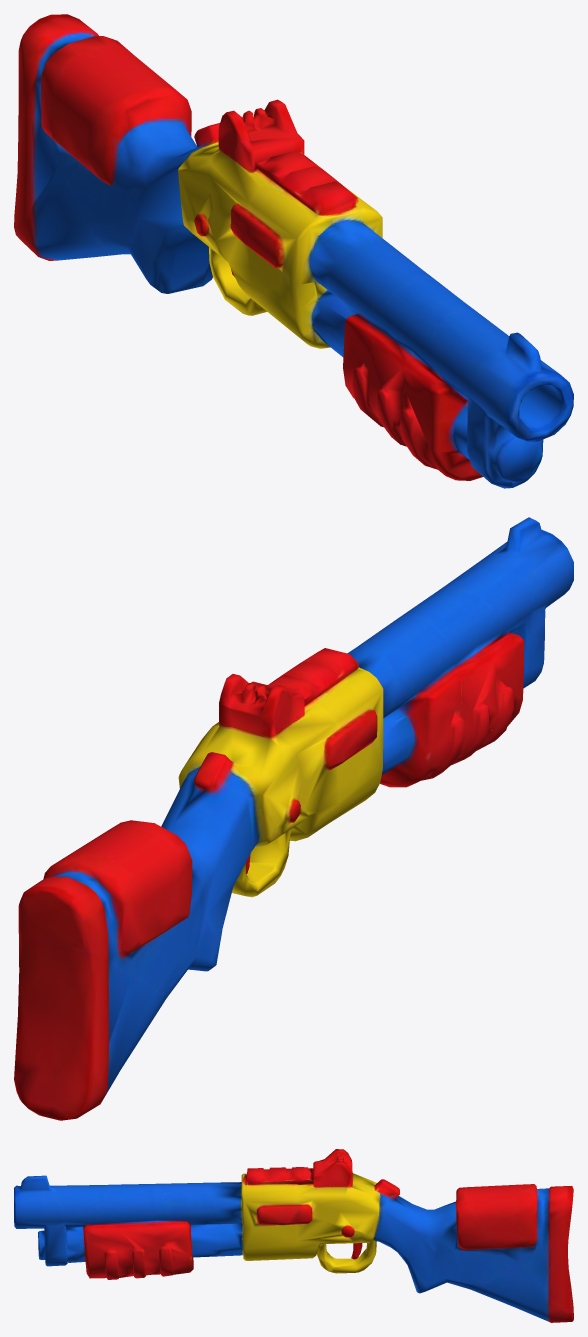
The model's file is gun_shotgun.glb.
3 views of the same model, one above another, from view 1: azimuth 30°, elevation 25°; view 2: azimuth 150°, elevation 25°; view 3: azimuth 270°, elevation 25° (orthographic). The views are drawn at different scales.
Parts seen in each view (by area): view 1: gun_shotgun_mesh; view 2: gun_shotgun_mesh; view 3: gun_shotgun_mesh.
Part boxes in pixels (x1,y1,x2,y2): gun_shotgun_mesh: (14, 14, 573, 488); gun_shotgun_mesh: (14, 517, 573, 1120); gun_shotgun_mesh: (14, 1149, 573, 1322).
Size of the model in its own units: 0.0753 by 0.1972 by 0.615.
Materials: 1 (1 with a texture image).
